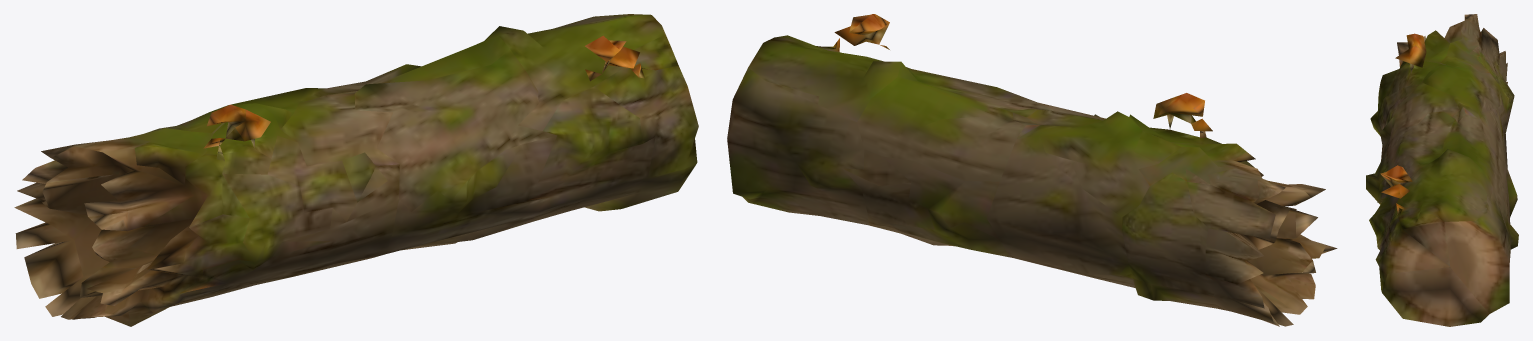
File: log.glb
The picture shows the model from 3 angles, left to right: view 1: azimuth 30°, elevation 25°; view 2: azimuth 150°, elevation 25°; view 3: azimuth 270°, elevation 25°; orthographic projection. The views are drawn at different scales.
Parts seen in each view (by area): view 1: log; view 2: log; view 3: log.
Part boxes in pixels (x1,y1,x2,y2): log: [14, 14, 698, 326]; log: [727, 14, 1337, 326]; log: [1366, 14, 1518, 326].
Bounding box in the file's own units: 2.33 × 0.7993 × 0.7316.
Materials: 1 (1 with a texture image).
